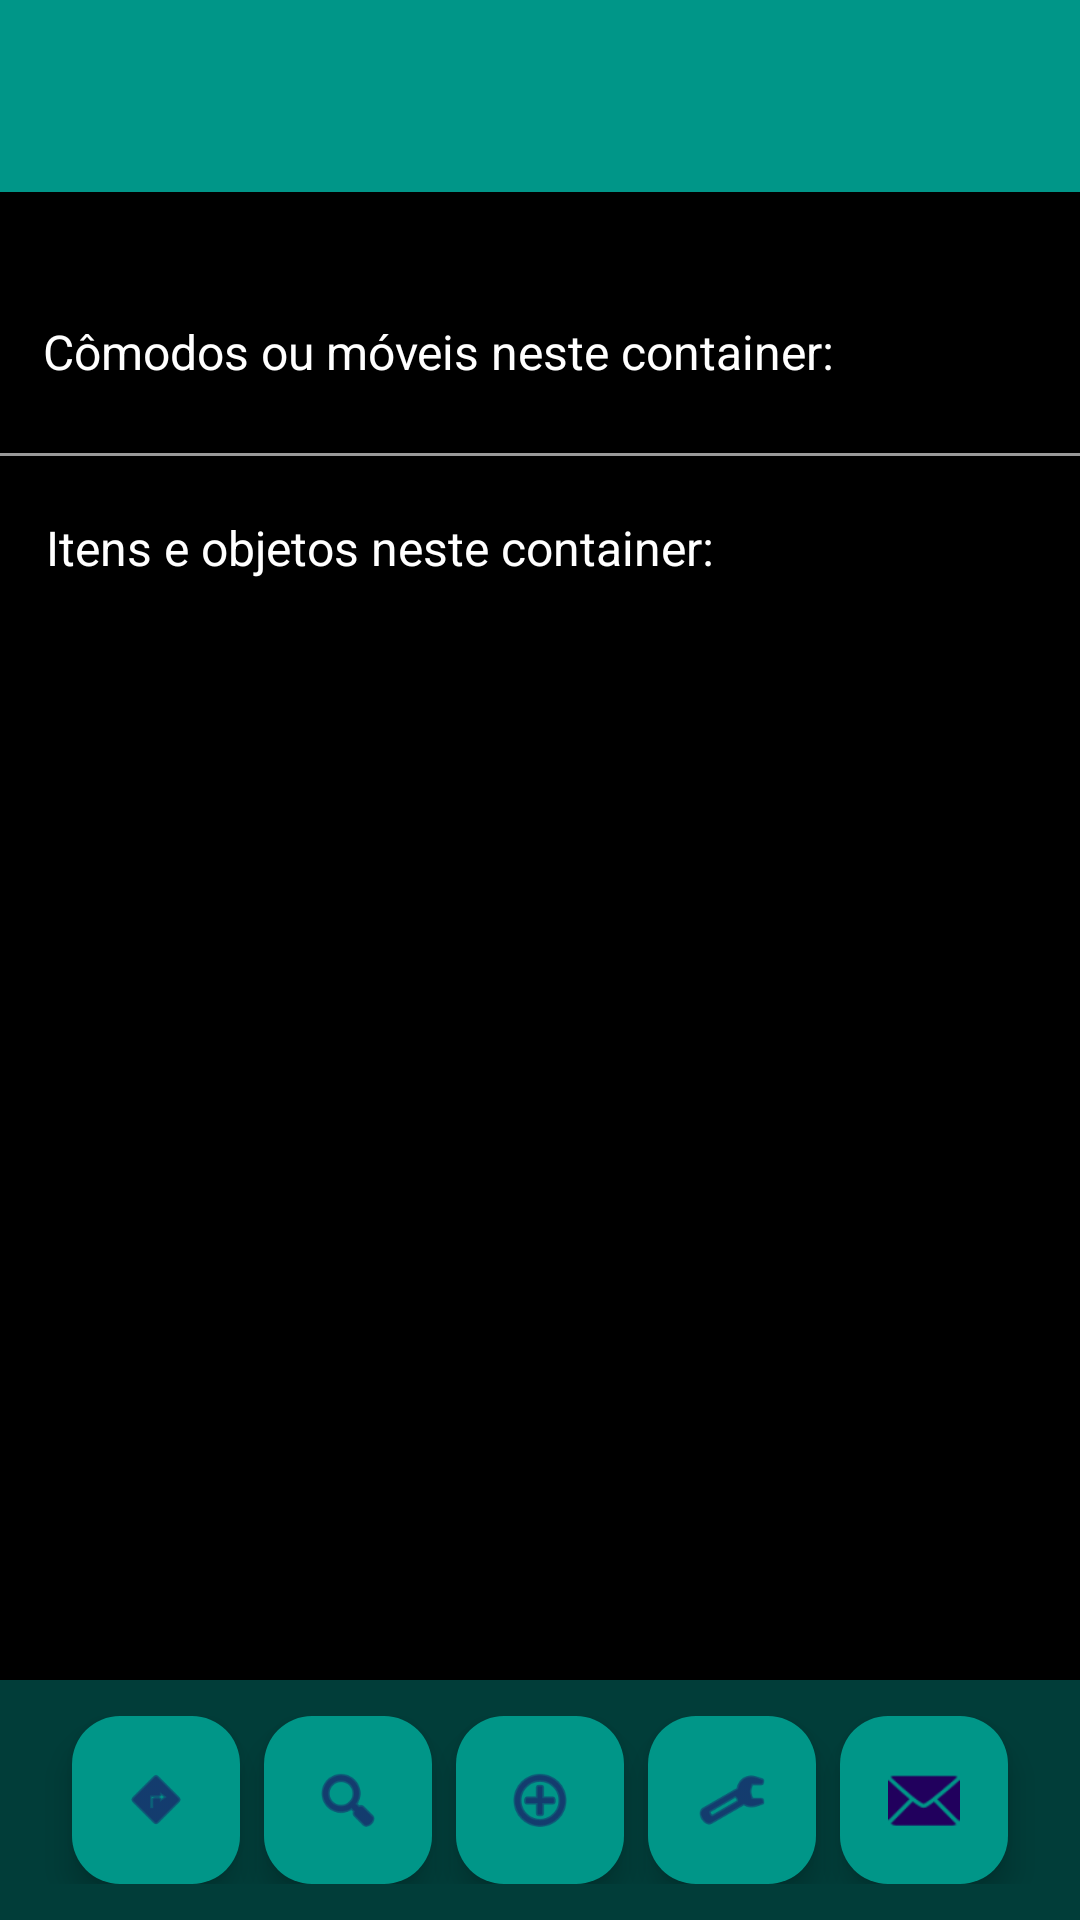

Named icons in this screenshot (1080x1920) and their centers, point (x, y):
add: point (540, 1800)
directions: point (156, 1800)
email: point (924, 1800)
preferences: point (732, 1800)
search: point (348, 1800)
